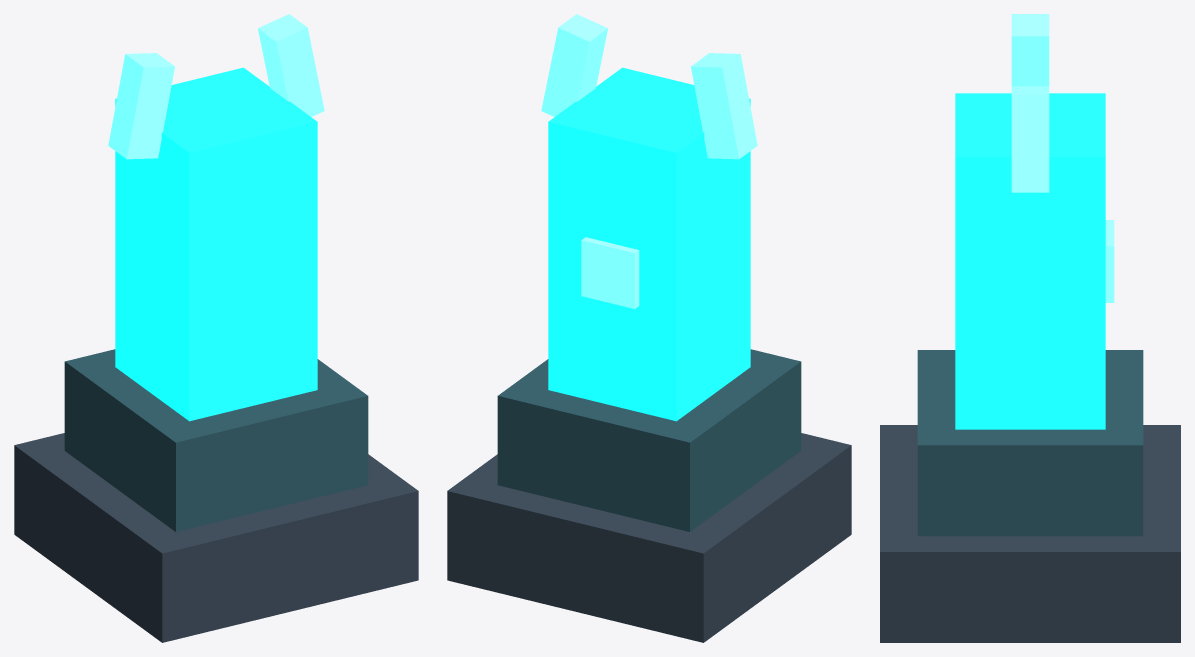
File: warden_tower.glb
3 renders of one model, left to right at view 1: azimuth 30°, elevation 25°; view 2: azimuth 150°, elevation 25°; view 3: azimuth 270°, elevation 25°, orthographic.
Parts seen in each view (by area): view 1: Spire, Base, Pedestal, HornLeft, HornRight; view 2: Spire, Base, Pedestal, HornLeft, HornRight, CoreChest; view 3: Spire, Base, Pedestal, HornRight, HornLeft, CoreChest.
Boxes of the visible parts, left/top/right/bottom form: Spire: left=115, top=67, right=317, bottom=421; Base: left=14, top=433, right=418, bottom=642; Pedestal: left=64, top=349, right=368, bottom=531; HornLeft: left=108, top=53, right=174, bottom=159; HornRight: left=258, top=14, right=324, bottom=116; Spire: left=548, top=67, right=750, bottom=421; Base: left=447, top=433, right=851, bottom=642; Pedestal: left=497, top=349, right=801, bottom=531; HornLeft: left=691, top=53, right=757, bottom=159; HornRight: left=541, top=14, right=607, bottom=116; CoreChest: left=581, top=237, right=639, bottom=308; Spire: left=955, top=93, right=1105, bottom=429; Base: left=880, top=425, right=1180, bottom=642; Pedestal: left=917, top=350, right=1143, bottom=536; HornRight: left=1011, top=86, right=1049, bottom=192; HornLeft: left=1011, top=14, right=1049, bottom=86; CoreChest: left=1105, top=220, right=1114, bottom=302.
Bounding box in the file's own units: 2.4 × 4.62 × 2.4.
